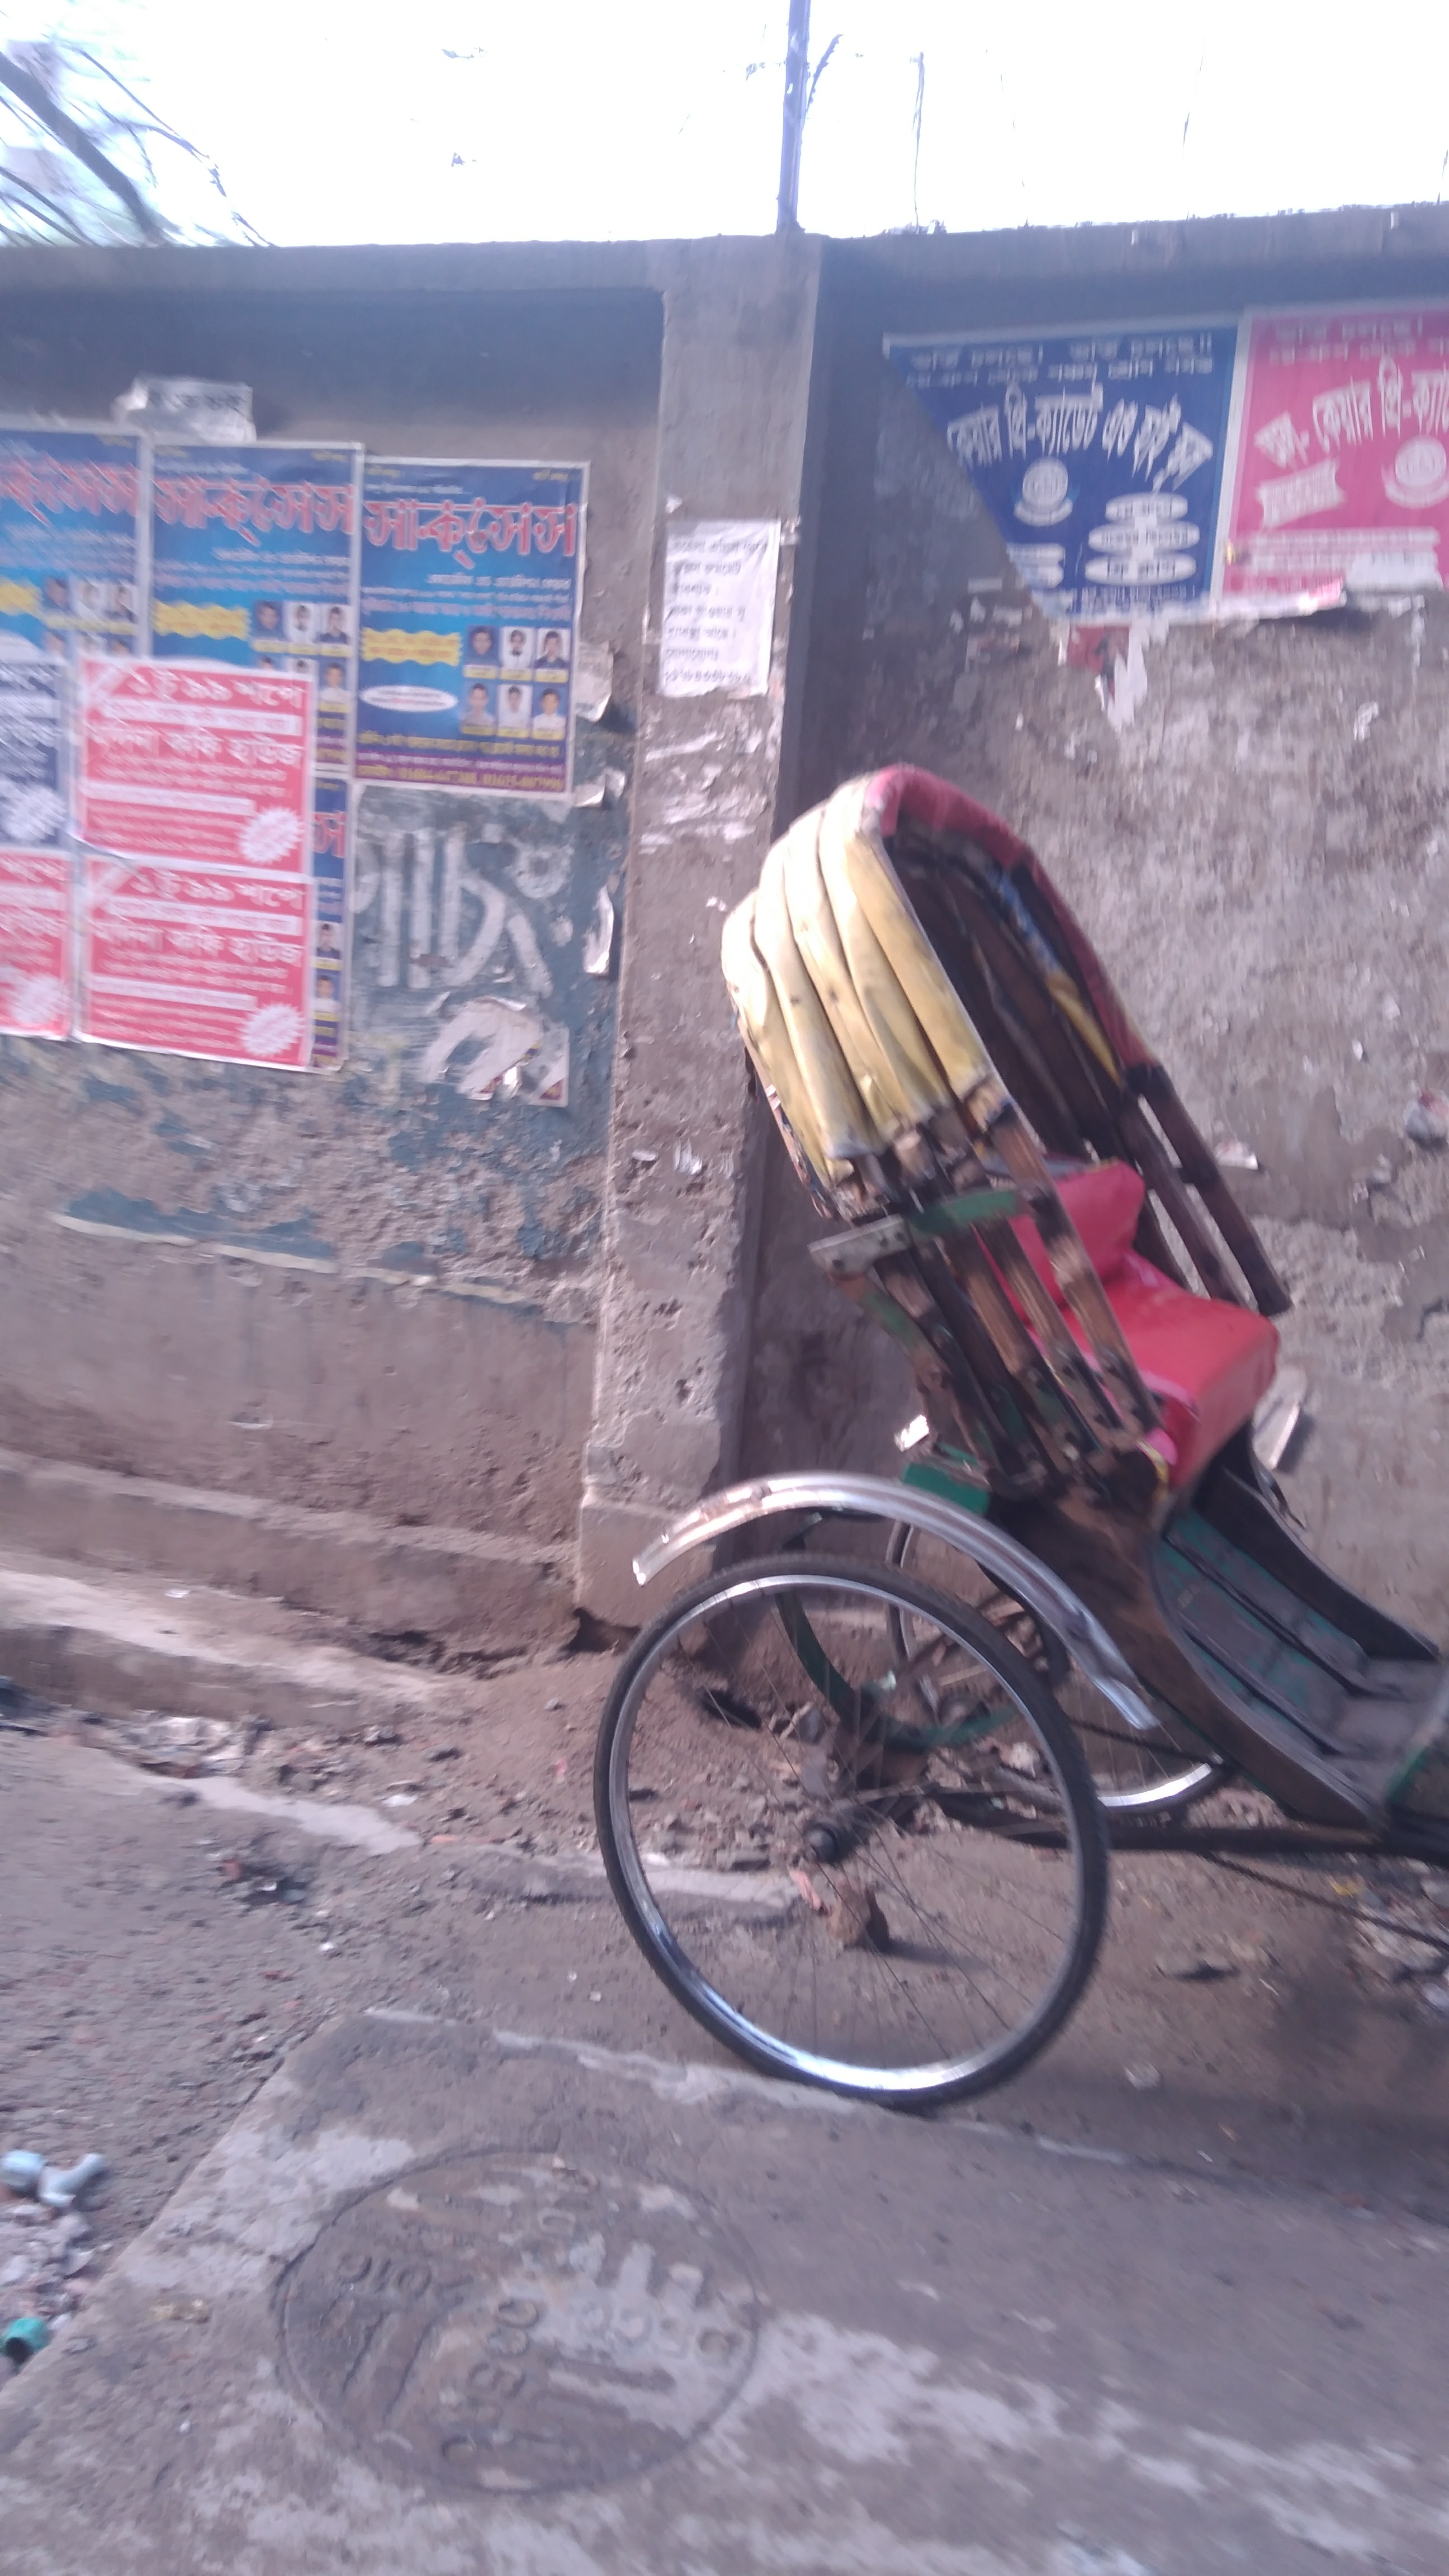Rickshaw: (626, 786, 1444, 2180)
